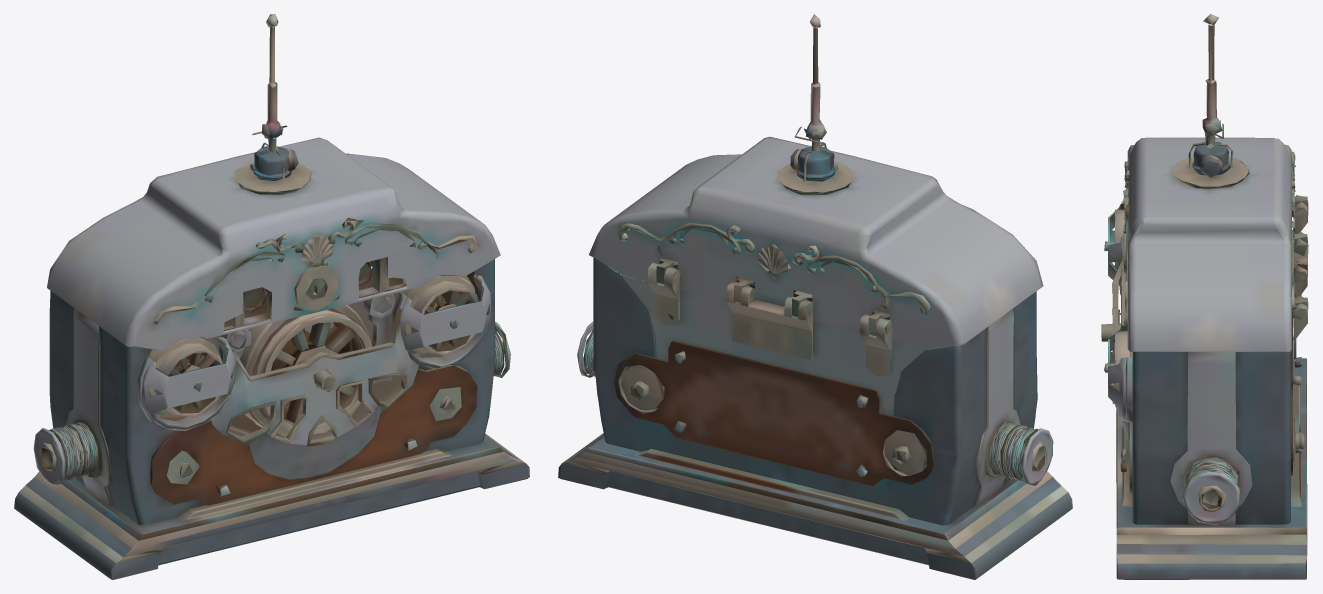
File: StructureBP_LinkedStorage_C.glb
3 views of the same model, side by side, from view 1: azimuth 30°, elevation 25°; view 2: azimuth 150°, elevation 25°; view 3: azimuth 270°, elevation 25° (orthographic). The views are drawn at different scales.
Parts seen in each view (by area): view 1: SM_LinkedStorage; view 2: SM_LinkedStorage; view 3: SM_LinkedStorage.
Part boxes in pixels (x1,y1,x2,y2): SM_LinkedStorage: [14, 14, 529, 579]; SM_LinkedStorage: [558, 14, 1072, 579]; SM_LinkedStorage: [1101, 14, 1308, 579].
Bounding box in the file's own units: 1.12 × 1.13 × 0.454.
1 material, 1 textured.
